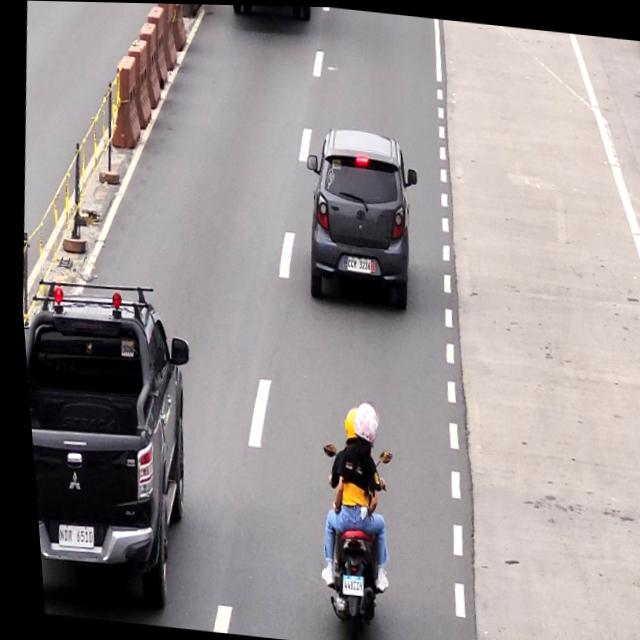Car: (16, 275, 199, 610), (295, 124, 412, 311)
License-Plate: (46, 519, 90, 551), (329, 570, 357, 594), (342, 254, 372, 272)
Motorcycle: (297, 391, 395, 638)
